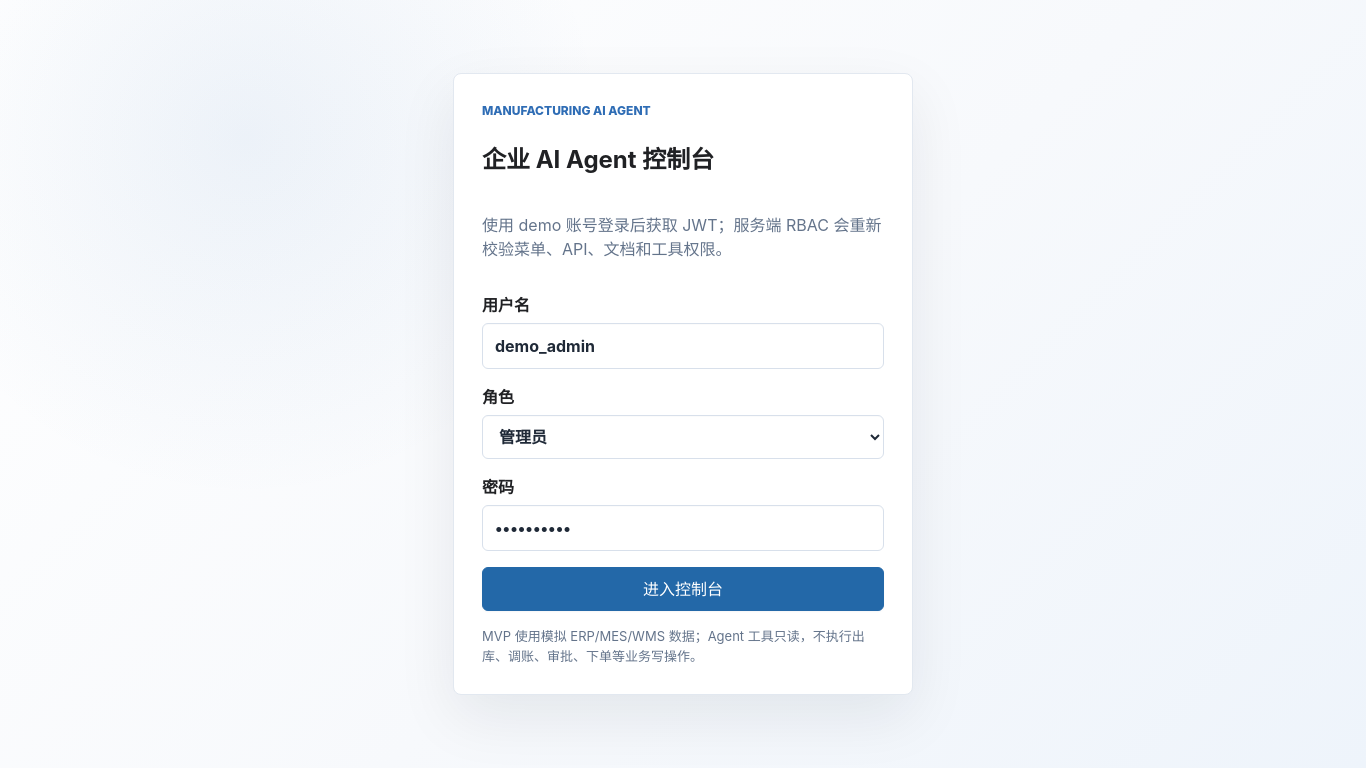
Test case: P8 console smoke › renders chat answer, tool permissions, risk factors, manual review, and decision record
Replace the text in the field labelled "用户名" with "demo_user" at (683, 346), box [482,324,884,370]
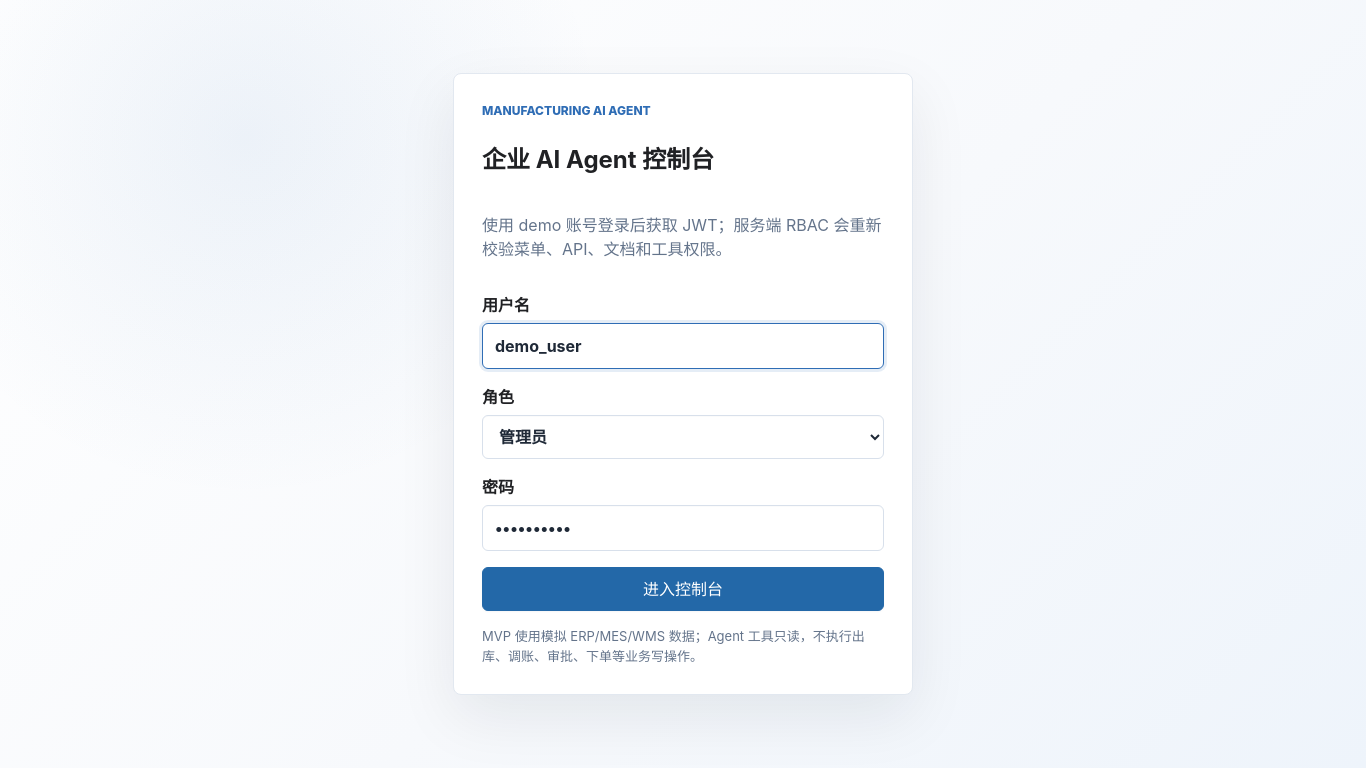
Select "普通用户" in the dropdown labelled "角色" at (683, 438), box [482,416,884,460]
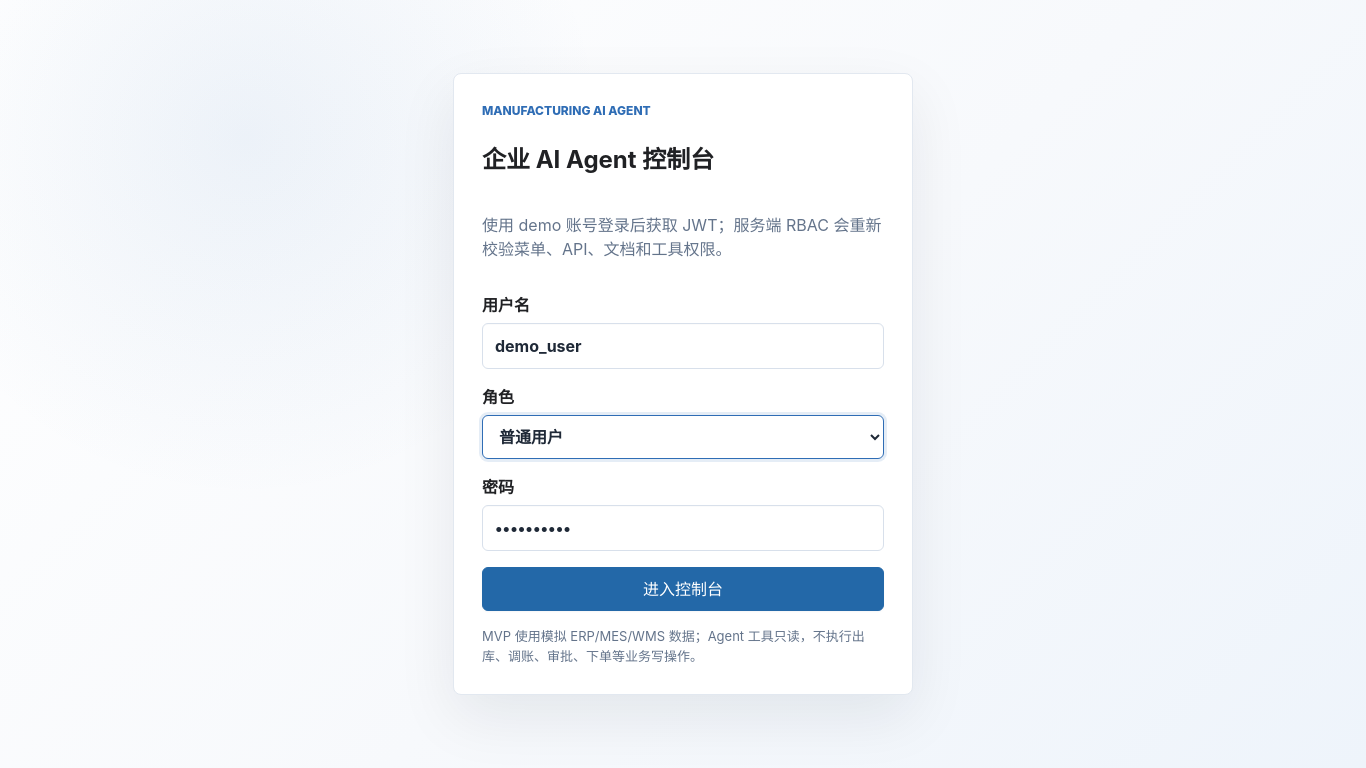
Click the button "进入控制台" at (683, 590), box [482,568,884,612]
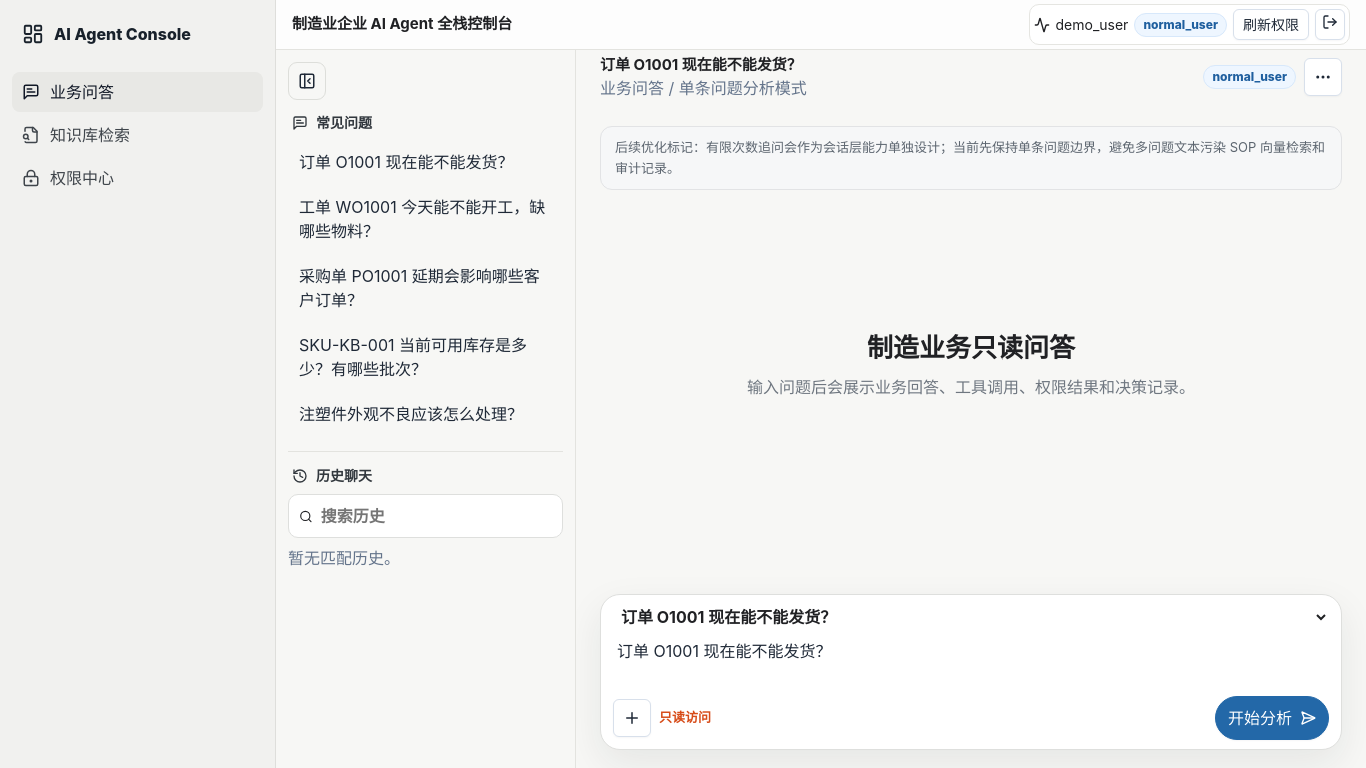
Click the button "开始分析" at (1272, 718), box [1215,696,1329,740]
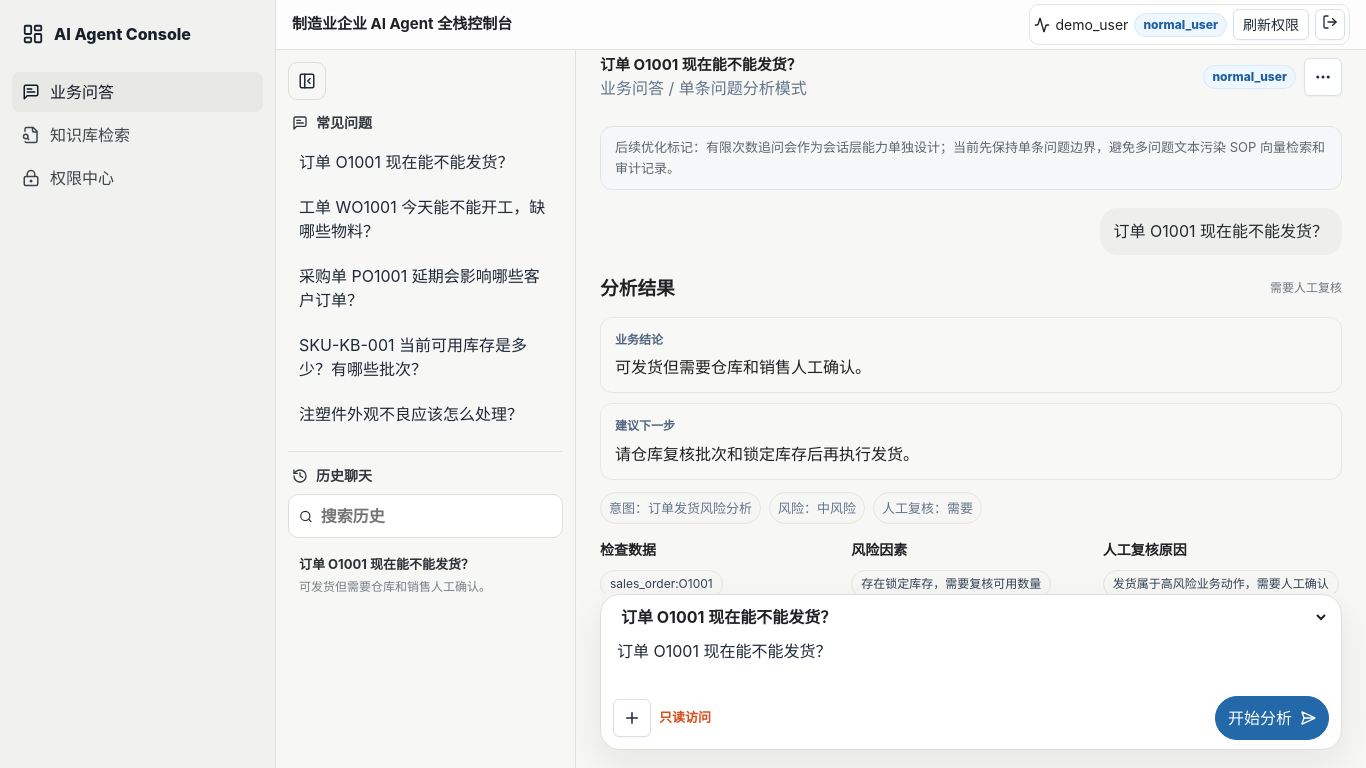
Expected: the text "存在锁定库存，需要复核可用数量" is shown, [851,570,1051,594]
Expected: the text "发货属于高风险业务动作，需要人工确认" is shown, [1103,570,1339,594]
